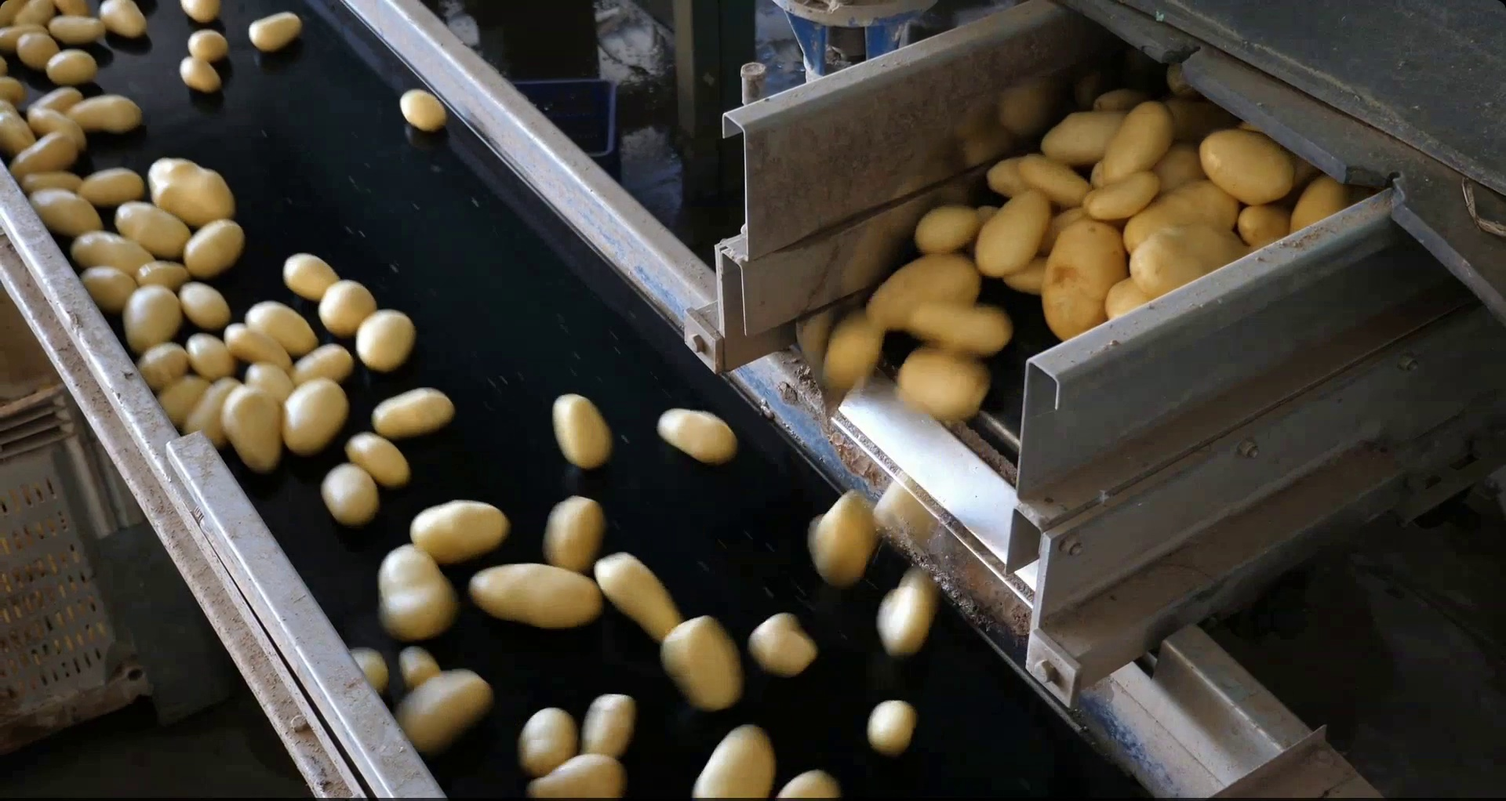potato: (1035, 212, 1131, 350), (1113, 174, 1251, 259), (860, 246, 988, 336), (588, 543, 692, 651), (461, 560, 609, 634), (382, 667, 499, 758), (1122, 225, 1259, 301), (882, 341, 998, 430), (1188, 118, 1298, 209), (1078, 100, 1184, 191), (373, 535, 461, 643), (655, 611, 744, 716), (969, 182, 1055, 283), (402, 492, 516, 568), (678, 716, 779, 801), (805, 480, 879, 596), (140, 154, 243, 231), (1028, 102, 1133, 170), (902, 295, 1020, 353), (873, 564, 942, 663), (877, 458, 948, 554), (743, 601, 820, 687), (647, 403, 746, 469), (535, 490, 609, 575), (277, 374, 351, 459), (818, 303, 886, 394), (515, 748, 630, 801), (217, 382, 283, 474), (512, 698, 582, 784), (109, 192, 195, 261), (547, 390, 616, 474), (178, 376, 250, 455), (368, 385, 464, 443), (1284, 167, 1366, 234), (577, 682, 641, 767), (115, 279, 186, 355), (1075, 165, 1166, 224), (908, 199, 988, 265), (178, 212, 251, 283), (317, 455, 382, 533), (354, 303, 420, 379), (1013, 150, 1096, 209), (242, 296, 320, 358), (221, 317, 295, 380), (67, 226, 156, 278), (26, 185, 108, 240), (314, 275, 381, 342), (2, 128, 79, 185), (342, 430, 413, 490), (154, 367, 214, 435), (862, 690, 919, 758), (275, 249, 344, 304), (180, 326, 240, 389), (991, 248, 1065, 298), (24, 102, 93, 154), (66, 93, 149, 136), (78, 261, 140, 317), (284, 341, 358, 386), (174, 277, 234, 332), (130, 339, 191, 393), (1100, 268, 1162, 321), (71, 165, 148, 207), (388, 643, 449, 696), (240, 6, 307, 53), (1155, 138, 1210, 194), (1231, 201, 1292, 248), (768, 766, 847, 801), (45, 9, 112, 50), (169, 53, 231, 97), (345, 636, 390, 696), (1, 92, 44, 154), (132, 254, 197, 295), (39, 45, 100, 88), (239, 360, 297, 405), (398, 85, 450, 135), (93, 1, 159, 40), (983, 154, 1036, 202), (179, 18, 233, 64), (13, 27, 64, 73), (1078, 83, 1144, 116), (17, 168, 87, 198), (1042, 205, 1084, 252), (27, 84, 89, 114), (9, 1, 67, 28), (173, 1, 231, 27), (1, 21, 47, 50), (45, 1, 96, 26), (973, 199, 1002, 223), (1, 53, 24, 82)
